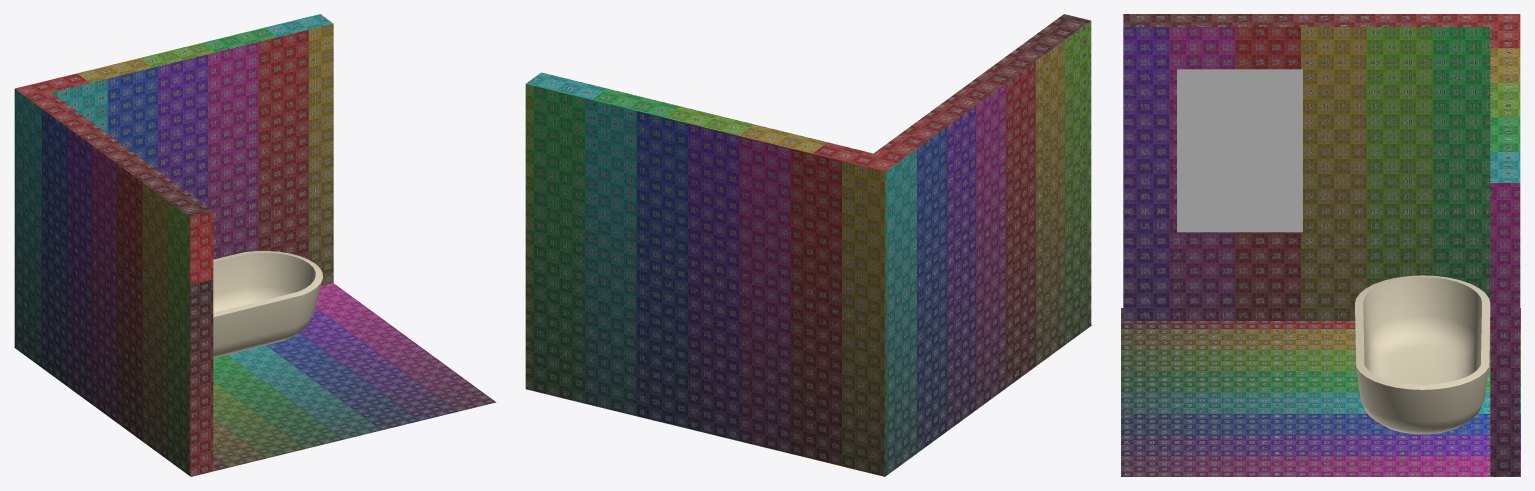
The model's file is bathroom.glb.
3 renders of one model, left to right at view 1: azimuth 30°, elevation 25°; view 2: azimuth 150°, elevation 25°; view 3: azimuth 270°, elevation 25°, orthographic. The views are drawn at different scales.
Parts seen in each view (by area): view 1: main_change, main_change2, bathroom; view 2: main_change; view 3: main_change, main_change2, bathroom.
Part boxes in pixels (<box>): main_change: <box>14,14,333,476</box>; main_change2: <box>190,283,496,476</box>; bathroom: <box>213,251,322,358</box>; main_change: <box>525,14,1091,476</box>; main_change: <box>1123,14,1520,476</box>; main_change2: <box>1121,308,1520,476</box>; bathroom: <box>1177,69,1490,434</box>.
Bounding box in the file's own units: 4 × 3.24 × 4.
4 materials, 2 textured.
